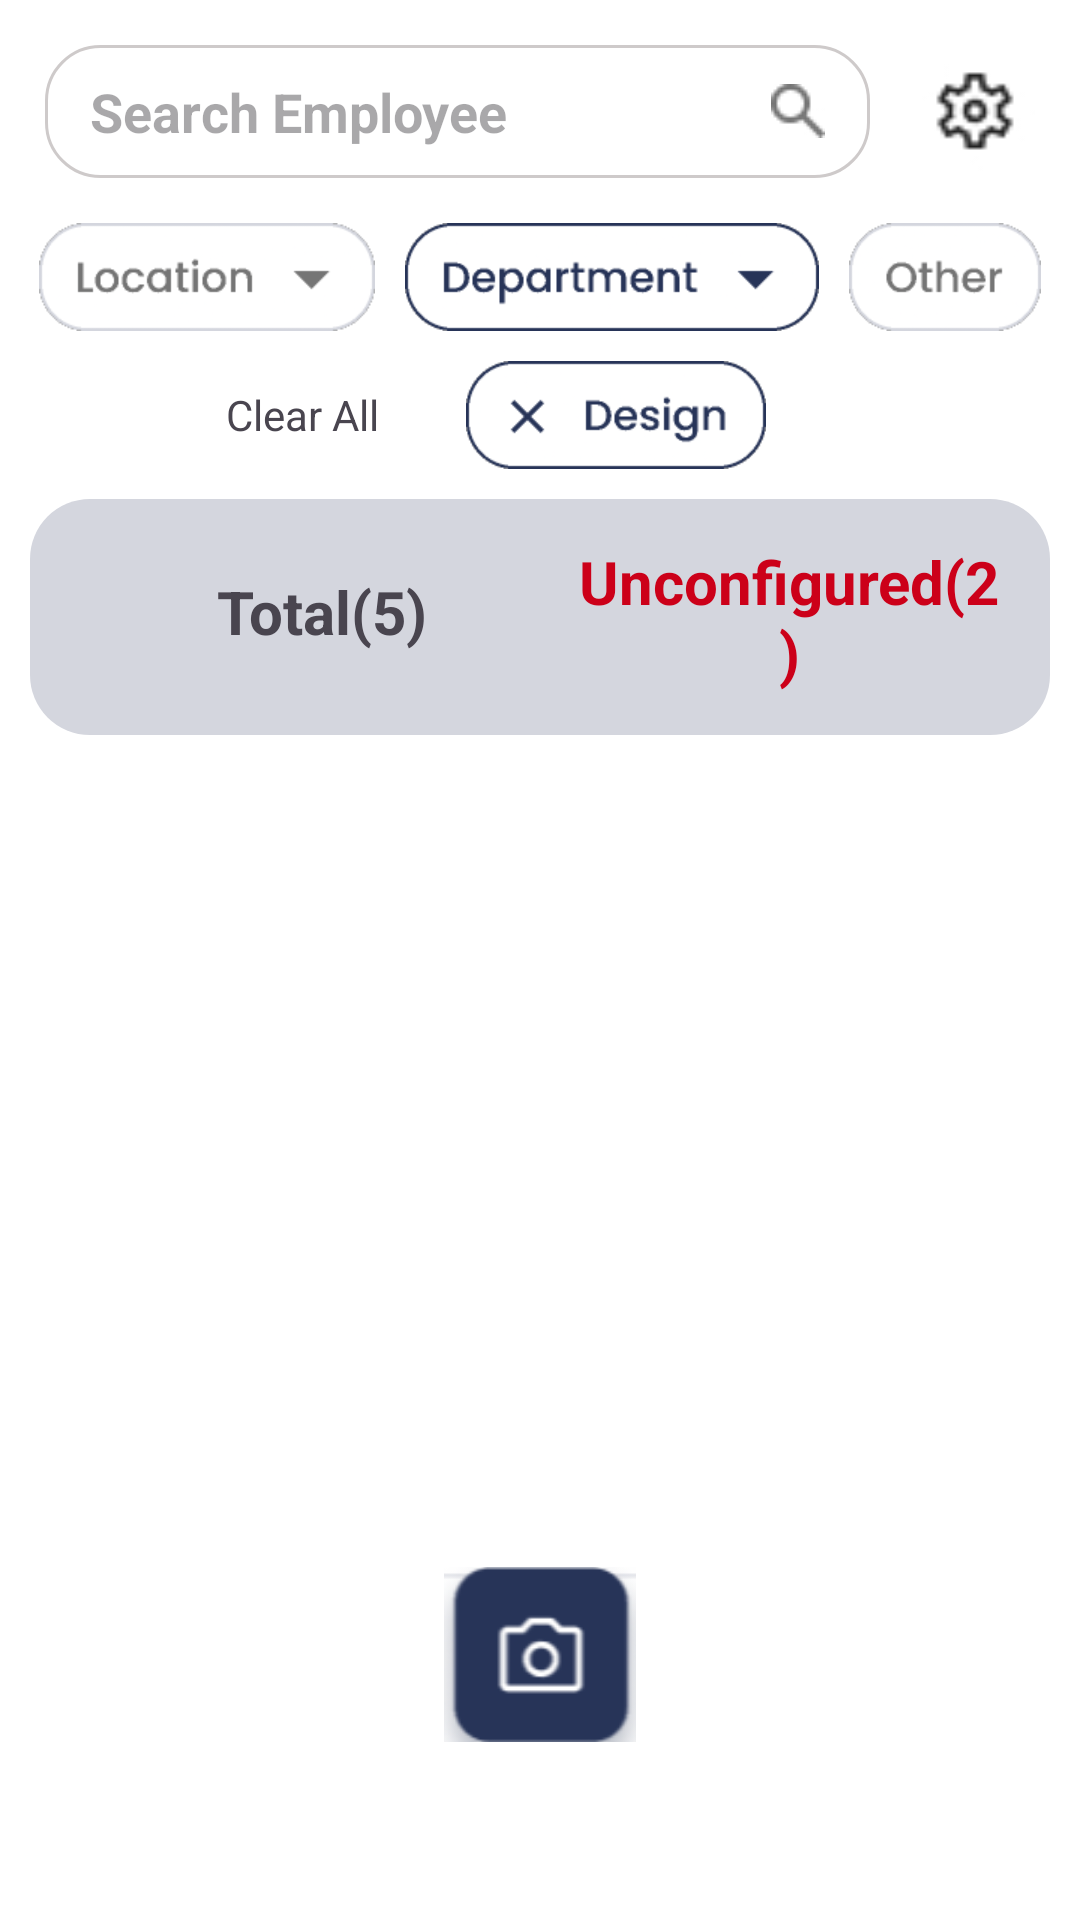

Where to tap for icons on this 1080 × 1920 app screen, as (x,y):
photo camera: (540,1654)
settings: (975,111)
